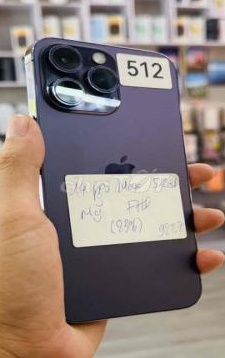scratch: (42, 44, 123, 114)
